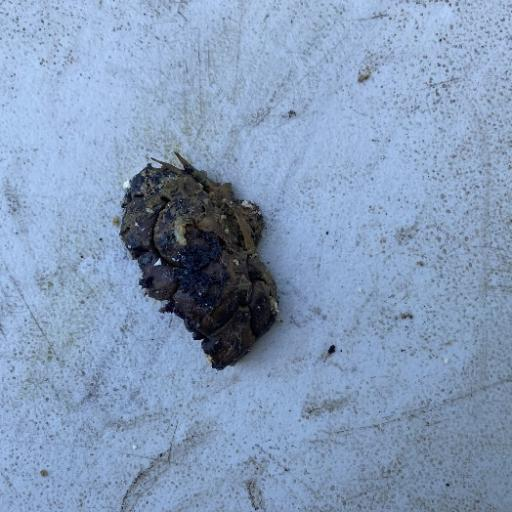Waste: (116, 150, 280, 370)
